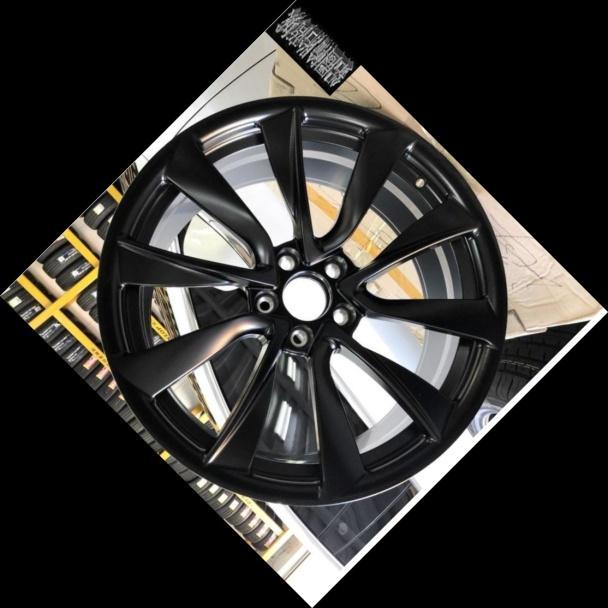hole: (268, 242, 303, 277), (324, 296, 359, 331), (283, 319, 316, 352), (249, 286, 282, 318), (317, 252, 349, 283)
